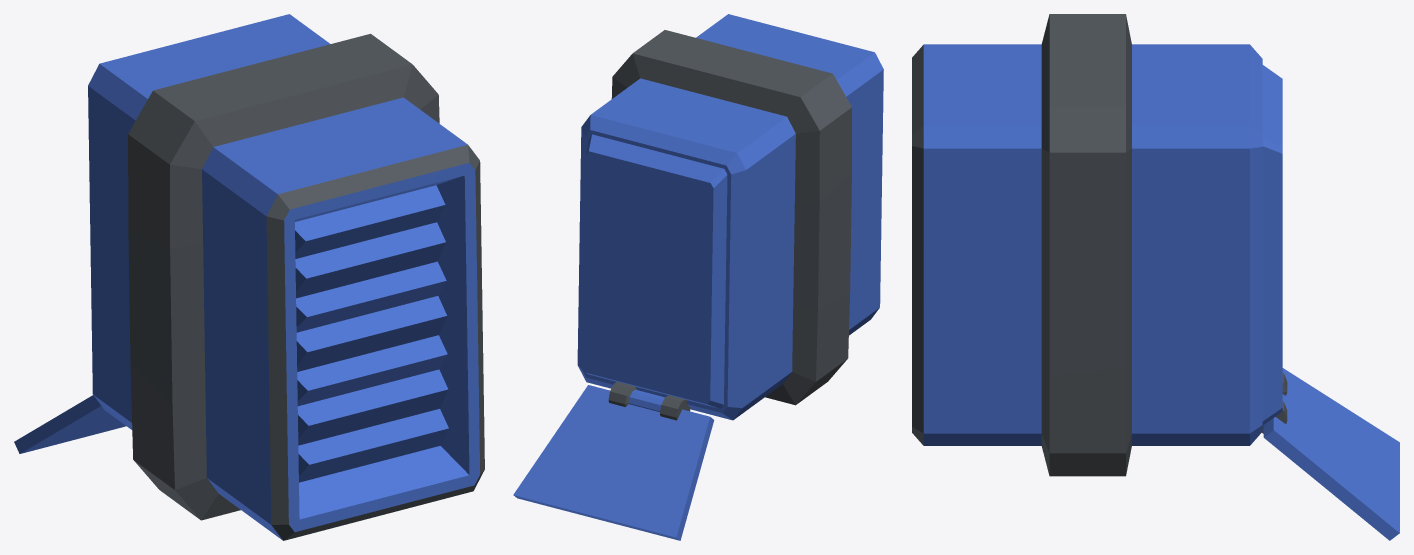
Rendered from Dropship_02_Glider_Blue.fbx.
3 views of the same model, side by side, from view 1: azimuth 30°, elevation 25°; view 2: azimuth 150°, elevation 25°; view 3: azimuth 270°, elevation 25° (orthographic). The views are drawn at different scales.
Parts seen in each view (by area): view 1: Dropship_02_Glider_Blue; view 2: Dropship_02_Glider_Blue; view 3: Dropship_02_Glider_Blue.
Part boxes in pixels (x1,y1,x2,y2): Dropship_02_Glider_Blue: (14, 14, 484, 540); Dropship_02_Glider_Blue: (513, 14, 883, 540); Dropship_02_Glider_Blue: (912, 14, 1399, 540).
Bounding box in the file's own units: 165 × 273 × 278.
Materials: 1 (1 with a texture image).
